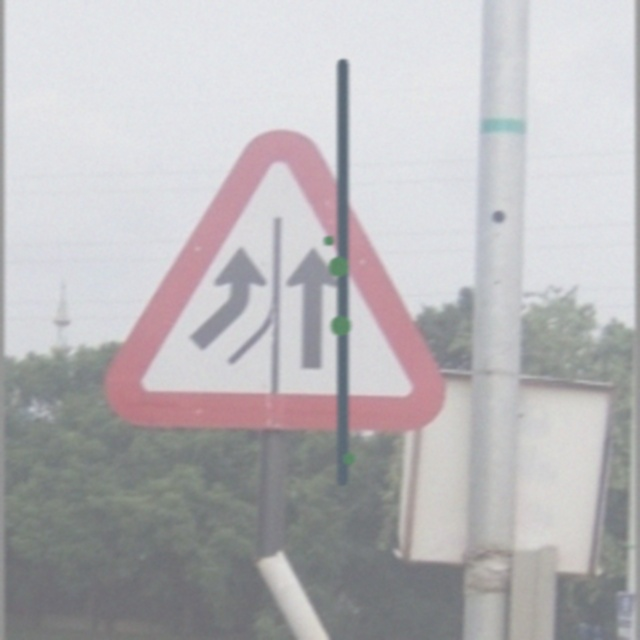Merge_Traffic_Ahead: (100, 124, 455, 448)
